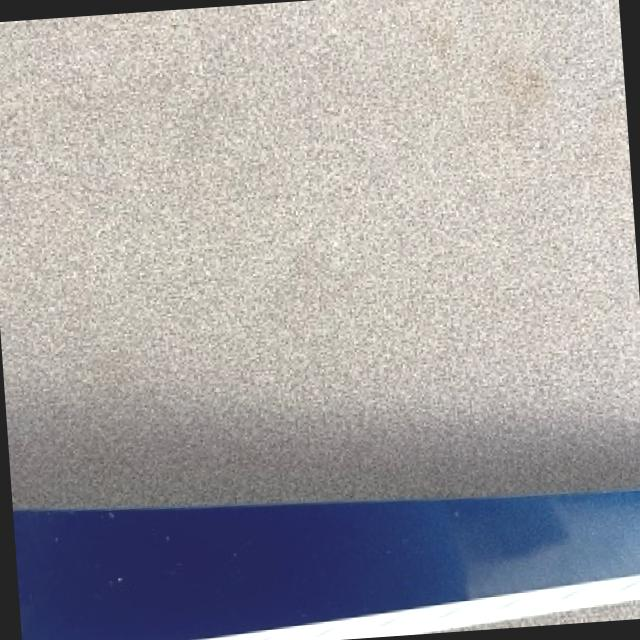healthy: (0, 0, 640, 506), (12, 490, 640, 640)
